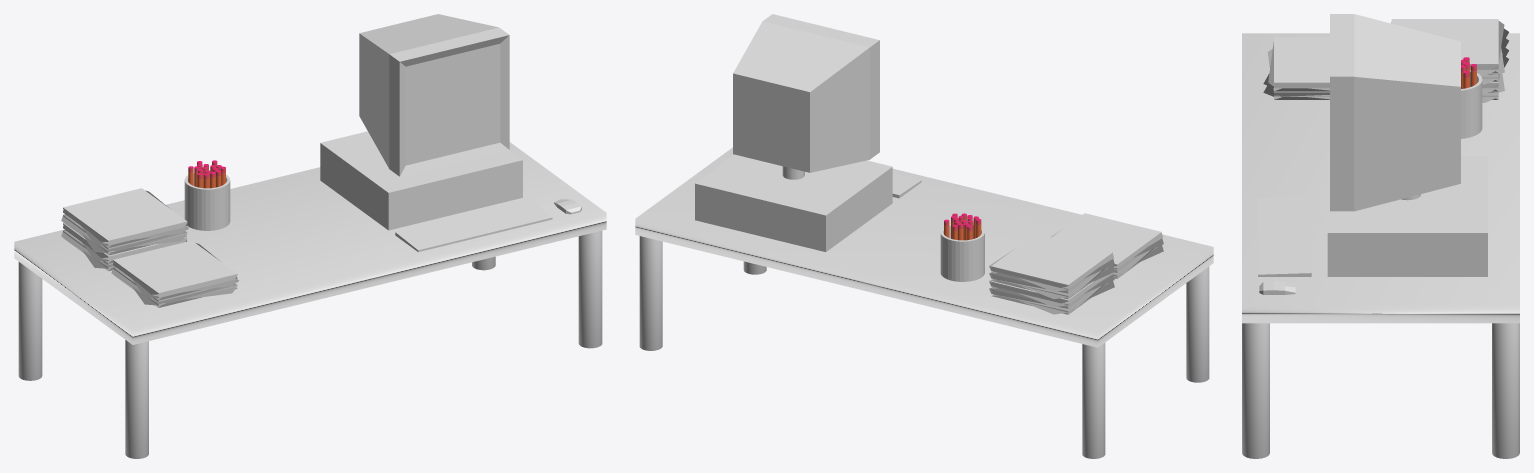
File: OfficeDesk.fbx
3 views of the same model, side by side, from view 1: azimuth 30°, elevation 25°; view 2: azimuth 150°, elevation 25°; view 3: azimuth 270°, elevation 25° (orthographic). The views are drawn at different scales.
Visible parts, largest first — view 1: Table, Monitor, Desktop, Table Legs, Papers.002, Papers, KeyBoard, PencilHolder, Papers.001; view 2: Table, Monitor, Desktop, Table Legs, Papers.002, Papers, PencilHolder, Papers.001; view 3: Table, Monitor, Desktop, Table Legs, KeyBoard, Papers, Papers.002, PencilHolder, Papers.001, ComputerMouse.
Part boxes in pixels (left/top/right/bottom): Table: left=14, top=142, right=606, bottom=344; Monitor: left=359, top=14, right=509, bottom=176; Desktop: left=320, top=131, right=522, bottom=230; Table Legs: left=18, top=230, right=602, bottom=458; Papers.002: left=61, top=188, right=188, bottom=255; Papers: left=111, top=240, right=238, bottom=307; KeyBoard: left=395, top=199, right=552, bottom=252; PencilHolder: left=184, top=170, right=230, bottom=230; Papers.001: left=61, top=223, right=187, bottom=271; Table: left=635, top=147, right=1213, bottom=347; Monitor: left=733, top=14, right=879, bottom=172; Desktop: left=695, top=154, right=892, bottom=251; Table Legs: left=639, top=236, right=1209, bottom=458; Papers.002: left=989, top=233, right=1114, bottom=299; Papers: left=1051, top=213, right=1163, bottom=278; PencilHolder: left=940, top=224, right=984, bottom=281; Papers.001: left=989, top=272, right=1114, bottom=314; Table: left=1242, top=33, right=1519, bottom=323; Monitor: left=1330, top=14, right=1460, bottom=211; Desktop: left=1327, top=156, right=1487, bottom=276; Table Legs: left=1242, top=323, right=1519, bottom=458; KeyBoard: left=1258, top=196, right=1311, bottom=276; Papers: left=1263, top=37, right=1329, bottom=99; Papers.002: left=1391, top=19, right=1508, bottom=84; PencilHolder: left=1461, top=70, right=1482, bottom=138; Papers.001: left=1482, top=48, right=1508, bottom=102; ComputerMouse: left=1259, top=281, right=1295, bottom=294.
Size of the model in its own units: 300 by 180 by 130.
